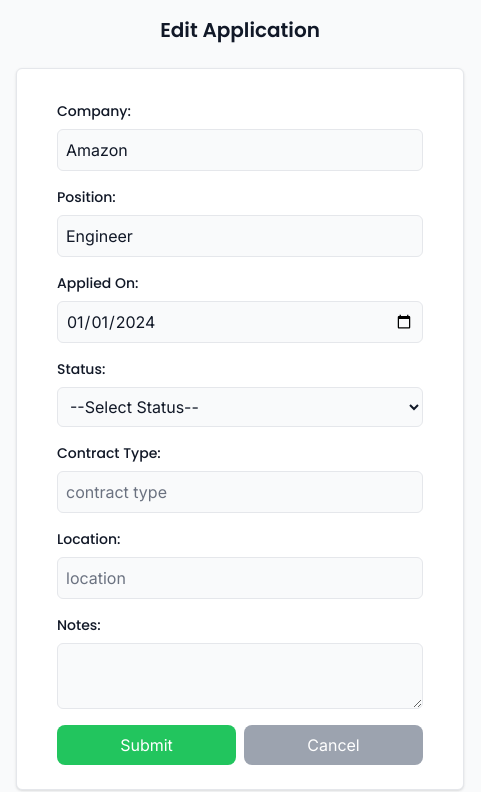
it: JobForm › when editing an existing application › renders edit mode and submits updated data
This screenshot has width=481, height=792.
Expected: the heading "Edit Application" is shown, [160, 16, 320, 52]
Expected: the field showing "Amazon" is shown, [57, 129, 423, 171]
Click the button "Submit": (146, 745) [57, 725, 236, 765]
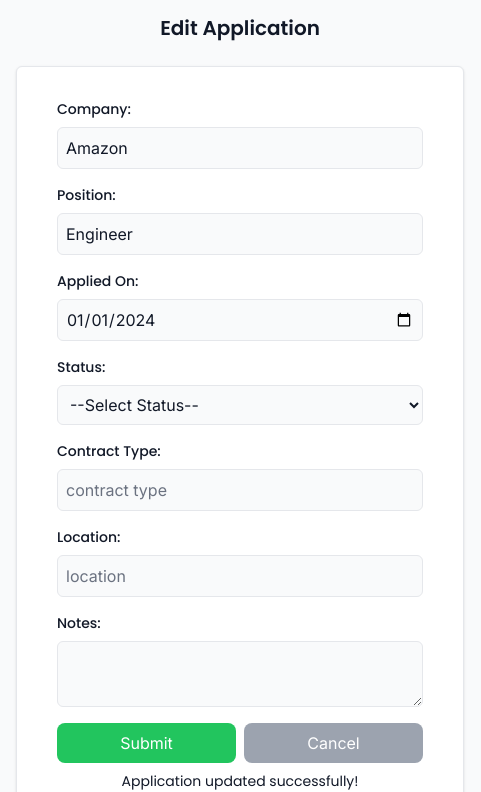
Expected: the text "Application updated successfully!" is shown, [122, 771, 358, 791]
